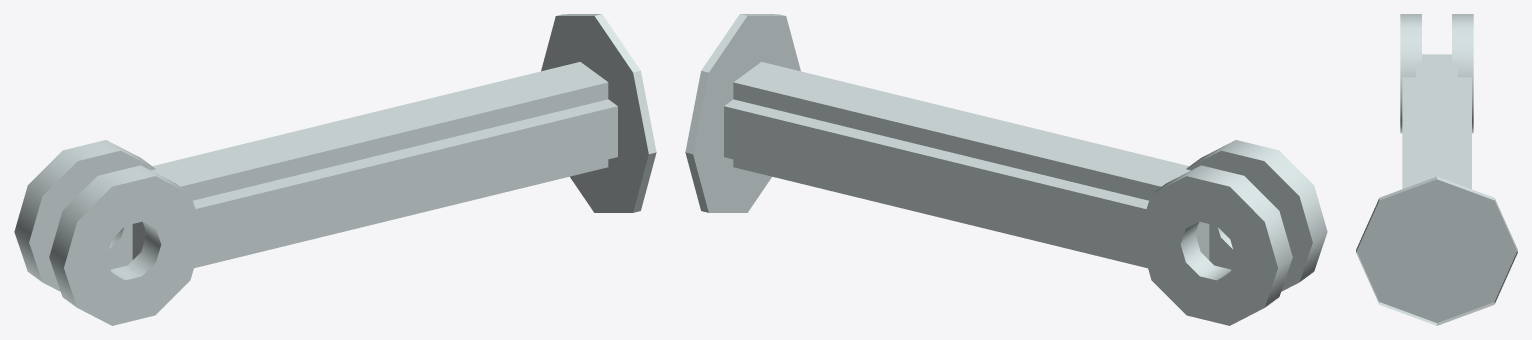
Rendered from valkyrium_engine_piston_geo.obj.
3 renders of one model, left to right at view 1: azimuth 30°, elevation 25°; view 2: azimuth 150°, elevation 25°; view 3: azimuth 270°, elevation 25°, orthographic. The views are drawn at different scales.
Visible parts, largest first — view 1: valkyrium_engine_piston_geo; view 2: valkyrium_engine_piston_geo; view 3: valkyrium_engine_piston_geo.
Part boxes in pixels (x1,y1,x2,y2): valkyrium_engine_piston_geo: [14, 14, 656, 325]; valkyrium_engine_piston_geo: [685, 14, 1327, 325]; valkyrium_engine_piston_geo: [1356, 14, 1517, 325].
Size of the model in its own units: 0.277 by 0.0927 by 0.0927.
